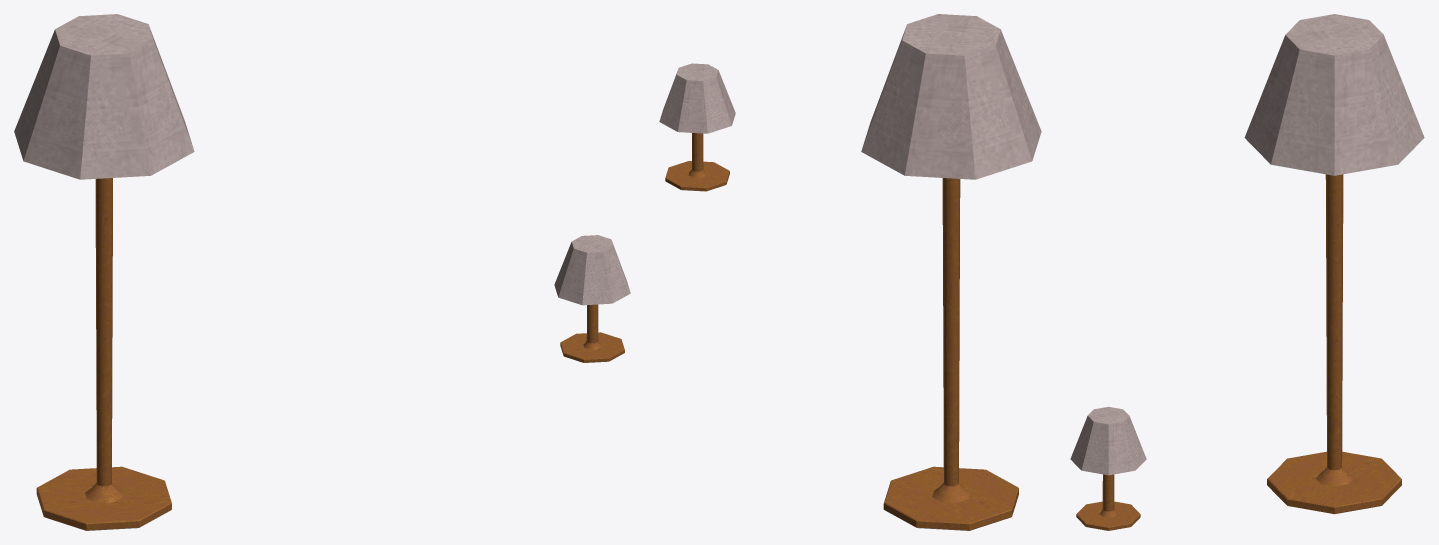
File: standingLamp.fbx
3 renders of one model, left to right at view 1: azimuth 30°, elevation 25°; view 2: azimuth 150°, elevation 25°; view 3: azimuth 270°, elevation 25°, orthographic. The views are drawn at different scales.
Visible parts, largest first — view 1: standingLamp, tableLamp; view 2: standingLamp, tableLamp; view 3: standingLamp, tableLamp.
Part boxes in pixels (x1,y1,x2,y2): standingLamp: (14, 14, 194, 530); tableLamp: (554, 235, 630, 362); standingLamp: (861, 14, 1041, 530); tableLamp: (659, 63, 735, 191); standingLamp: (1244, 14, 1424, 514); tableLamp: (1070, 406, 1146, 530).
Size of the model in its own units: 2.96 by 2.72 by 1.94.
